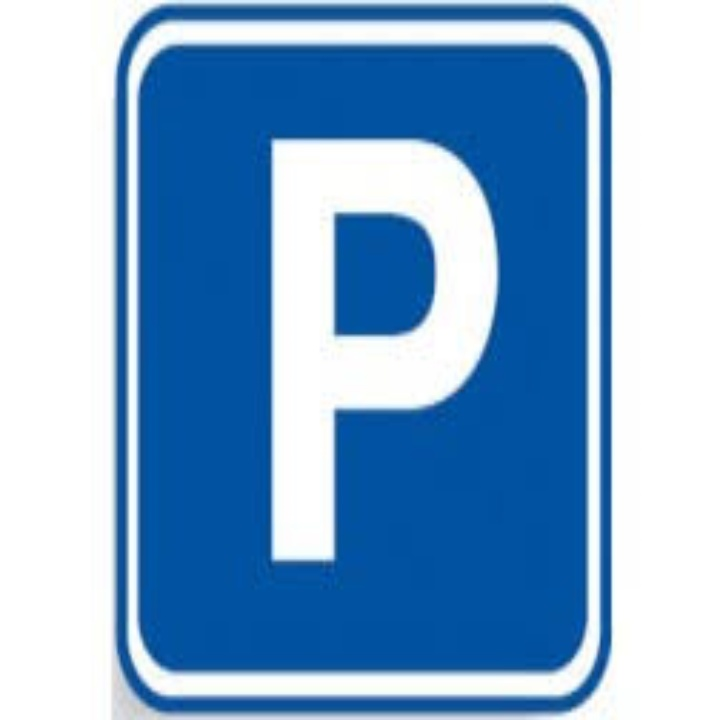parking: (259, 125, 507, 574)
